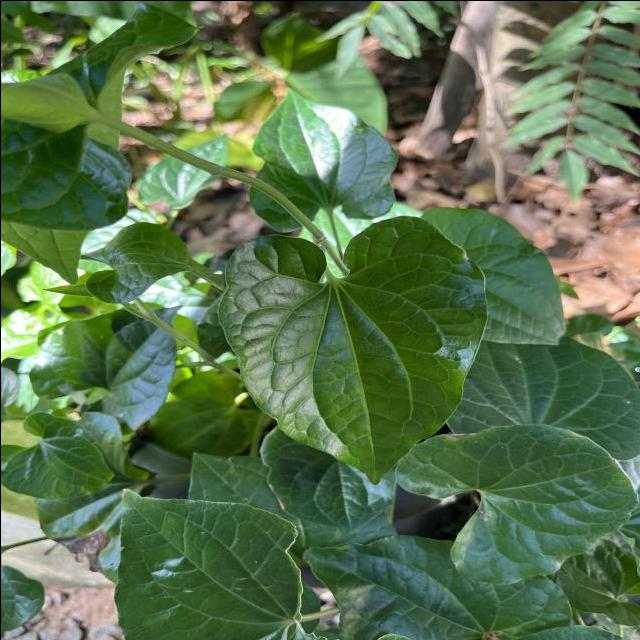Piper longum: (215, 211, 489, 486)
